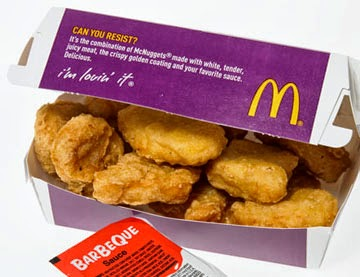mcdonalds: (245, 75, 301, 127)
